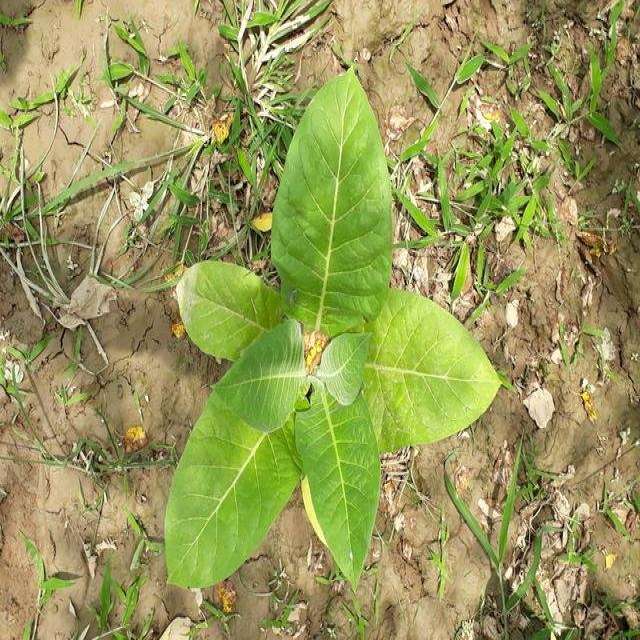crop: (160, 59, 502, 600)
